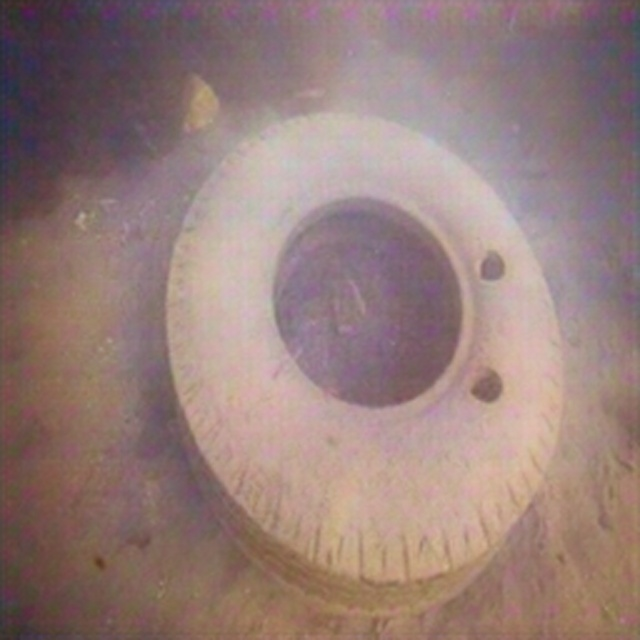mine: (164, 111, 565, 628)
